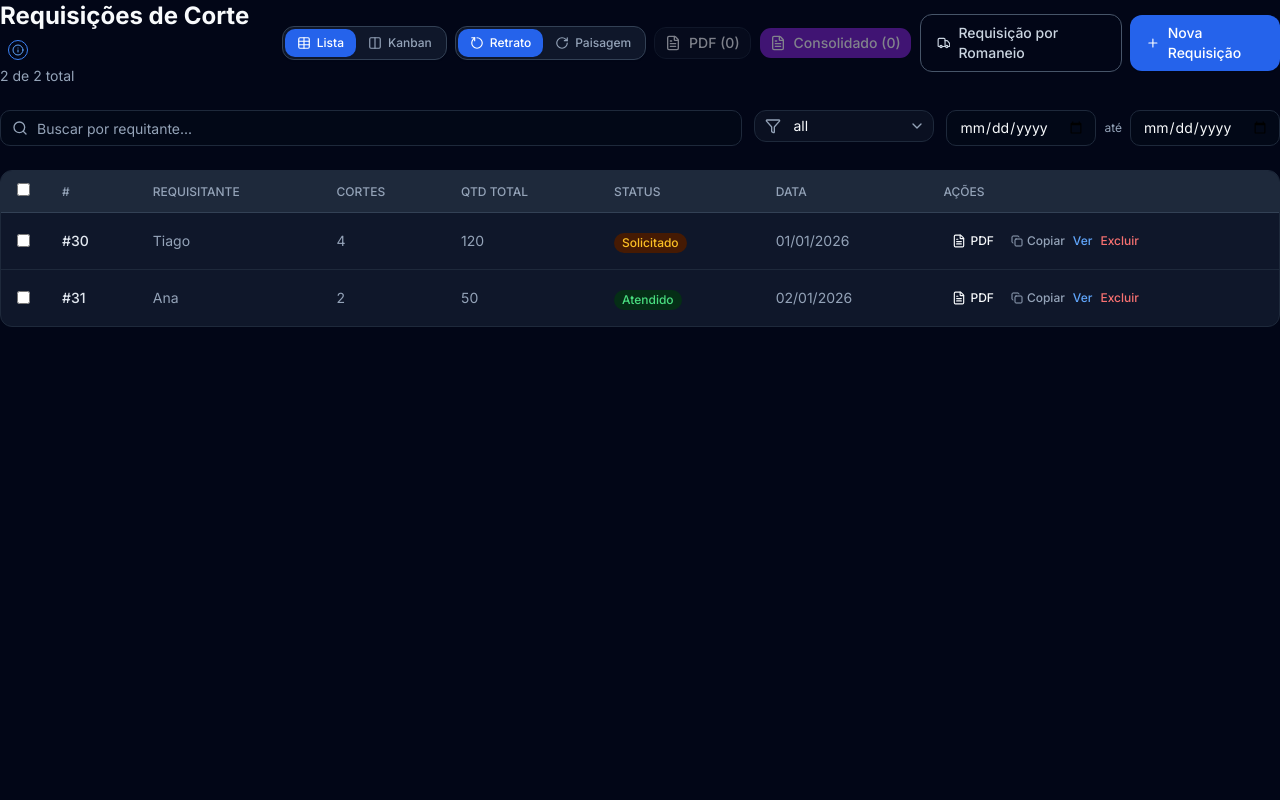
ListaRequisicoesCortePage › exclui uma requisição através do modal de confirmação
Expected: the text "Tiago" is shown, [137,212,320,270]
Click the button "Excluir" in the row of "30".
click(1120, 241)  # box [1100,233,1139,249]
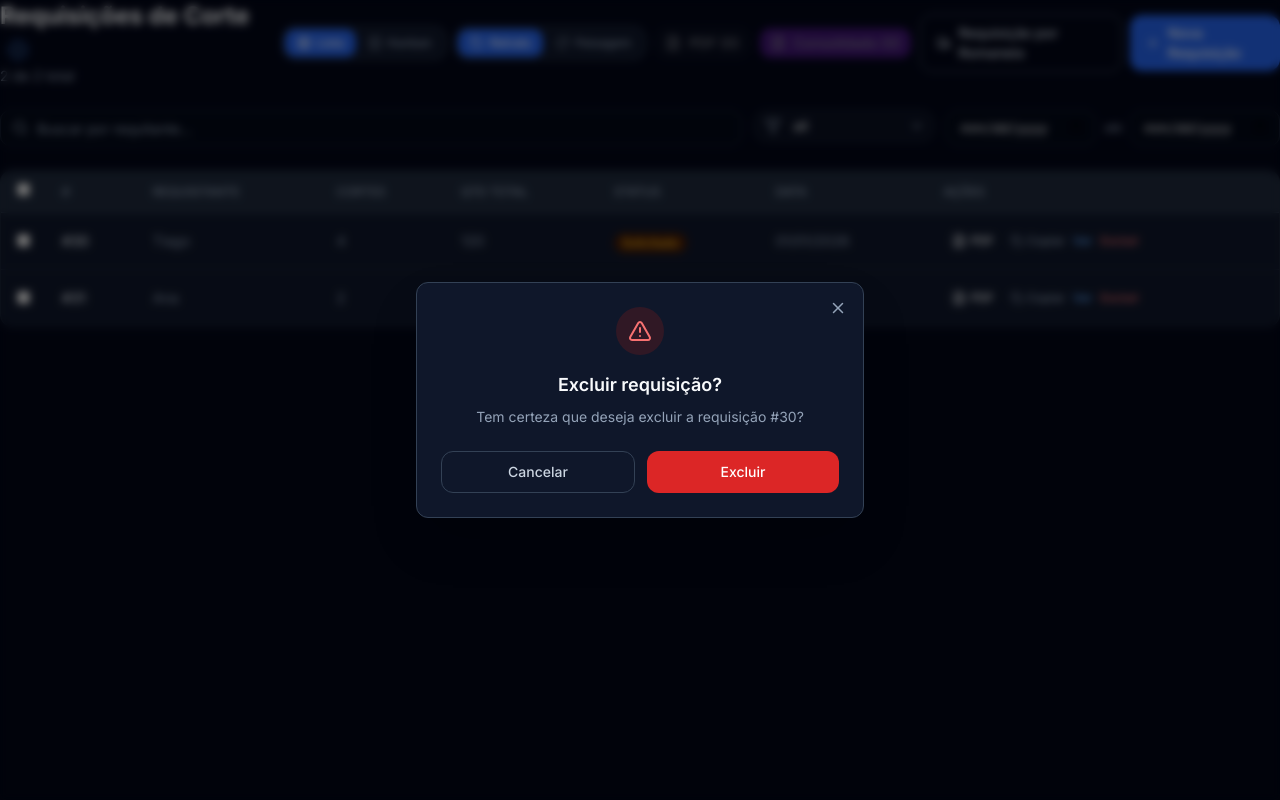
Click the button "Excluir".
click(743, 472)  # box [647,451,839,493]
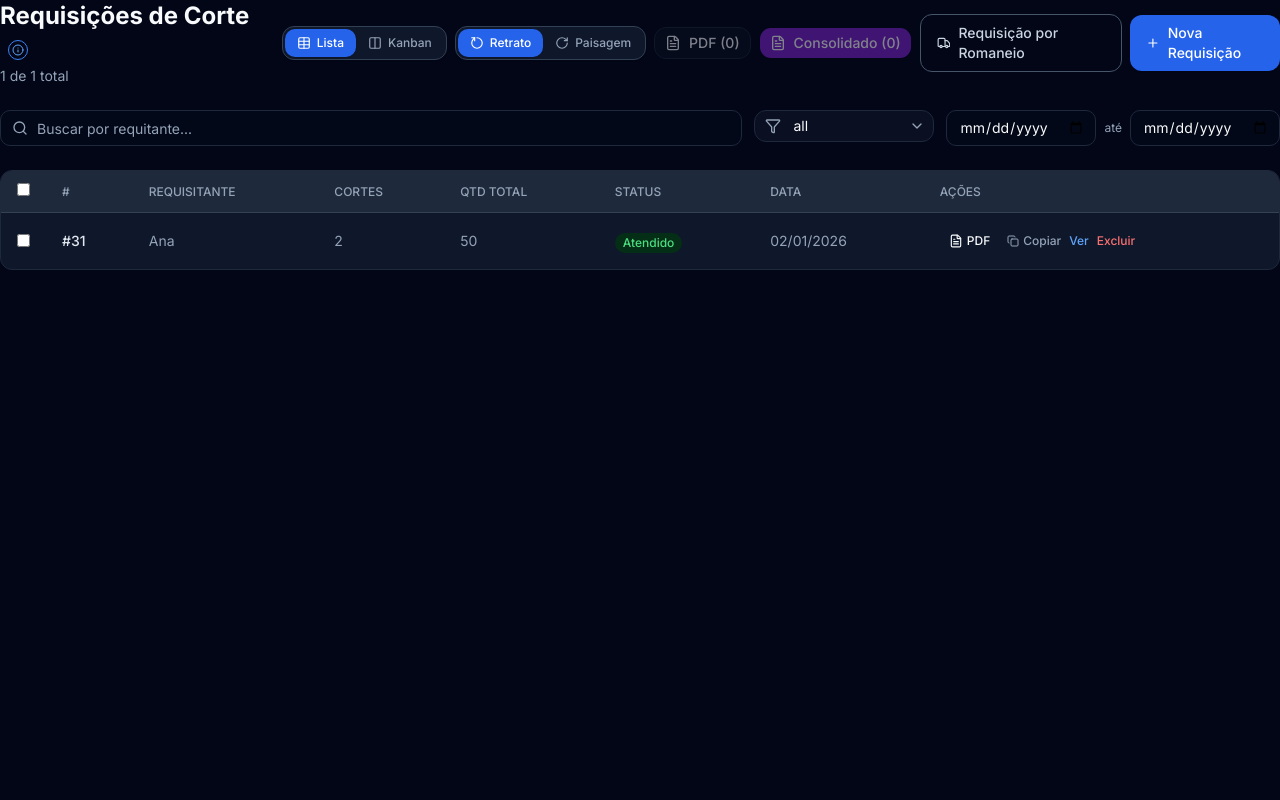
Expected: the text "Tiago" is gone
